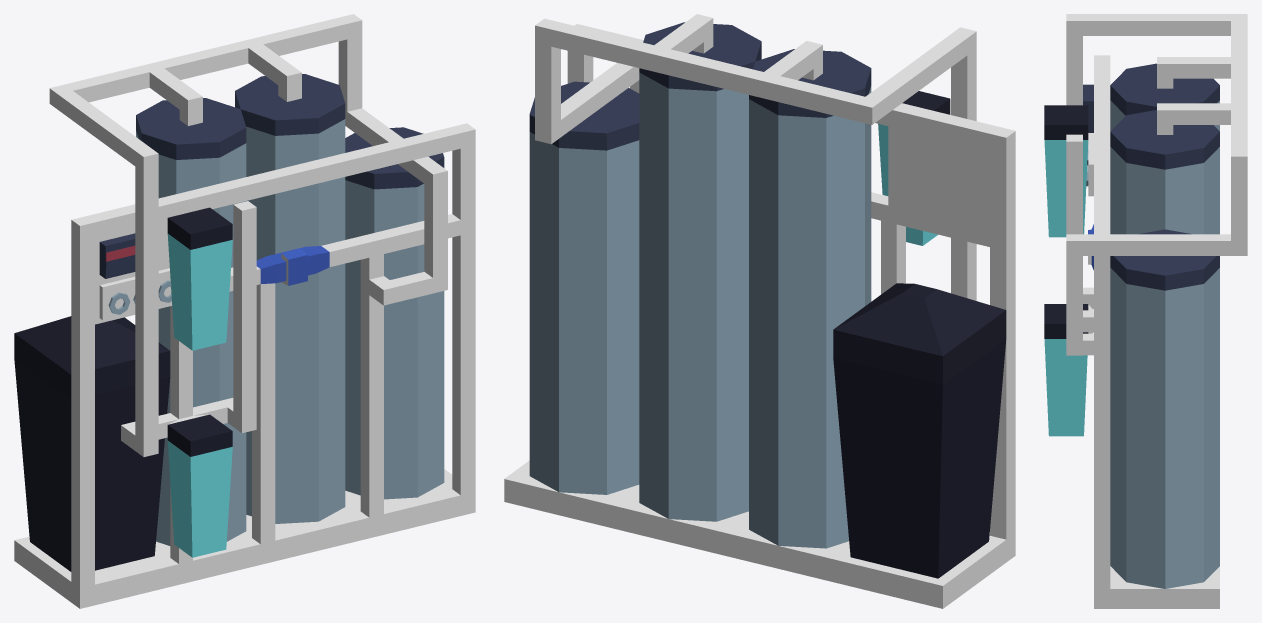
File: water_cleaner.glb
3 views of the same model, side by side, from view 1: azimuth 30°, elevation 25°; view 2: azimuth 150°, elevation 25°; view 3: azimuth 270°, elevation 25° (orthographic). The views are drawn at different scales.
Visible parts, largest first — view 1: Cube; view 2: Cube; view 3: Cube.
Part boxes in pixels (box(x1,y1,x2,y2)): Cube: box(14, 14, 475, 608); Cube: box(504, 14, 1015, 608); Cube: box(1044, 14, 1247, 608).
Bounding box in the file's own units: 8 × 8.7 × 3.7.
1 material, 1 textured.
